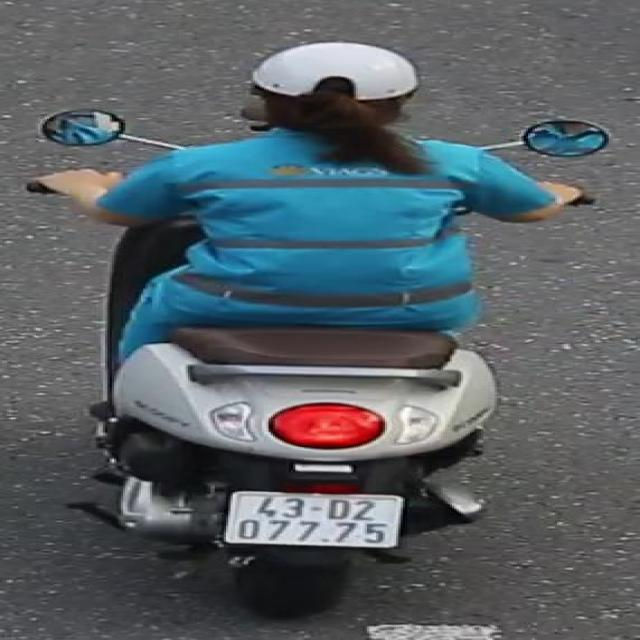LP: (220, 489, 410, 555)
helmet: (235, 34, 430, 150)
